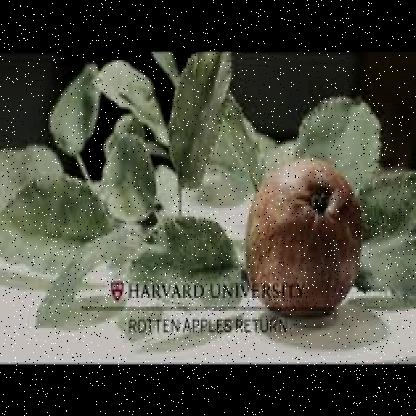damaged_apple: (246, 169, 362, 318)
